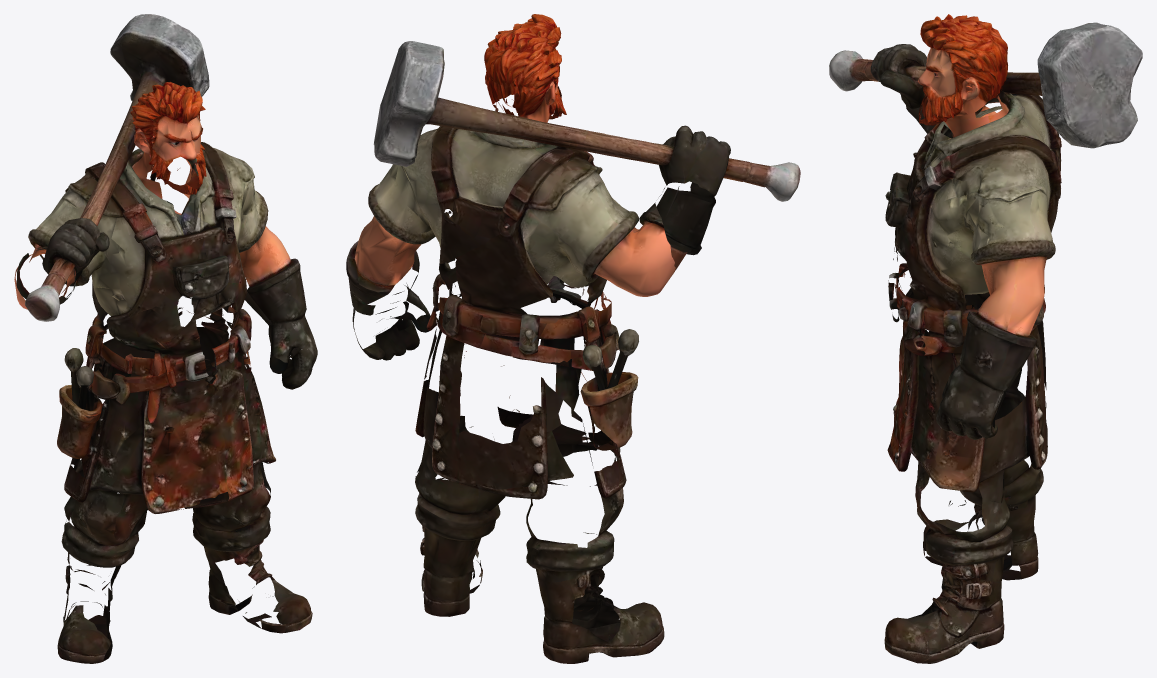
File: kael154.glb
3 renders of one model, left to right at view 1: azimuth 30°, elevation 25°; view 2: azimuth 150°, elevation 25°; view 3: azimuth 270°, elevation 25°, orthographic. The views are drawn at different scales.
Parts seen in each view (by area): view 1: tripo_node_7fe744e2-e42e-4904-8857-4812c8e211f0; view 2: tripo_node_7fe744e2-e42e-4904-8857-4812c8e211f0; view 3: tripo_node_7fe744e2-e42e-4904-8857-4812c8e211f0.
Part boxes in pixels (x1,y1,x2,y2): tripo_node_7fe744e2-e42e-4904-8857-4812c8e211f0: (14, 14, 317, 663); tripo_node_7fe744e2-e42e-4904-8857-4812c8e211f0: (346, 14, 800, 663); tripo_node_7fe744e2-e42e-4904-8857-4812c8e211f0: (829, 14, 1142, 663).
Size of the model in its own units: 0.6324 by 0.9795 by 0.4615.
Materials: 1 (1 with a texture image).
